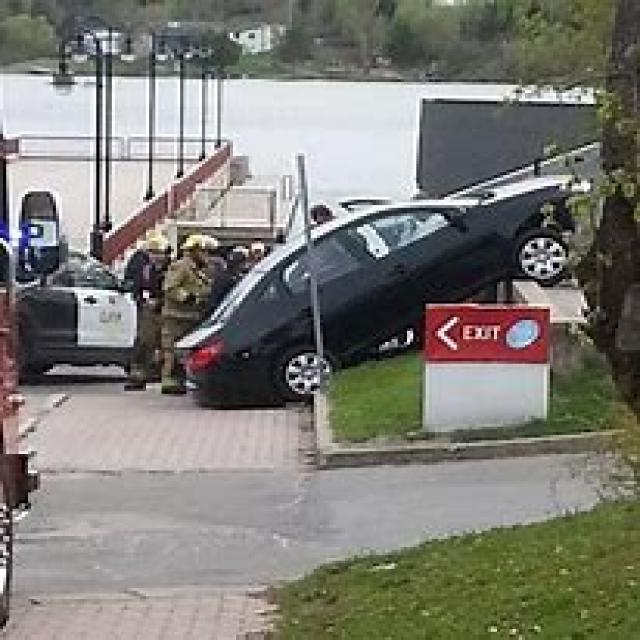Accident: (17, 112, 640, 460)
